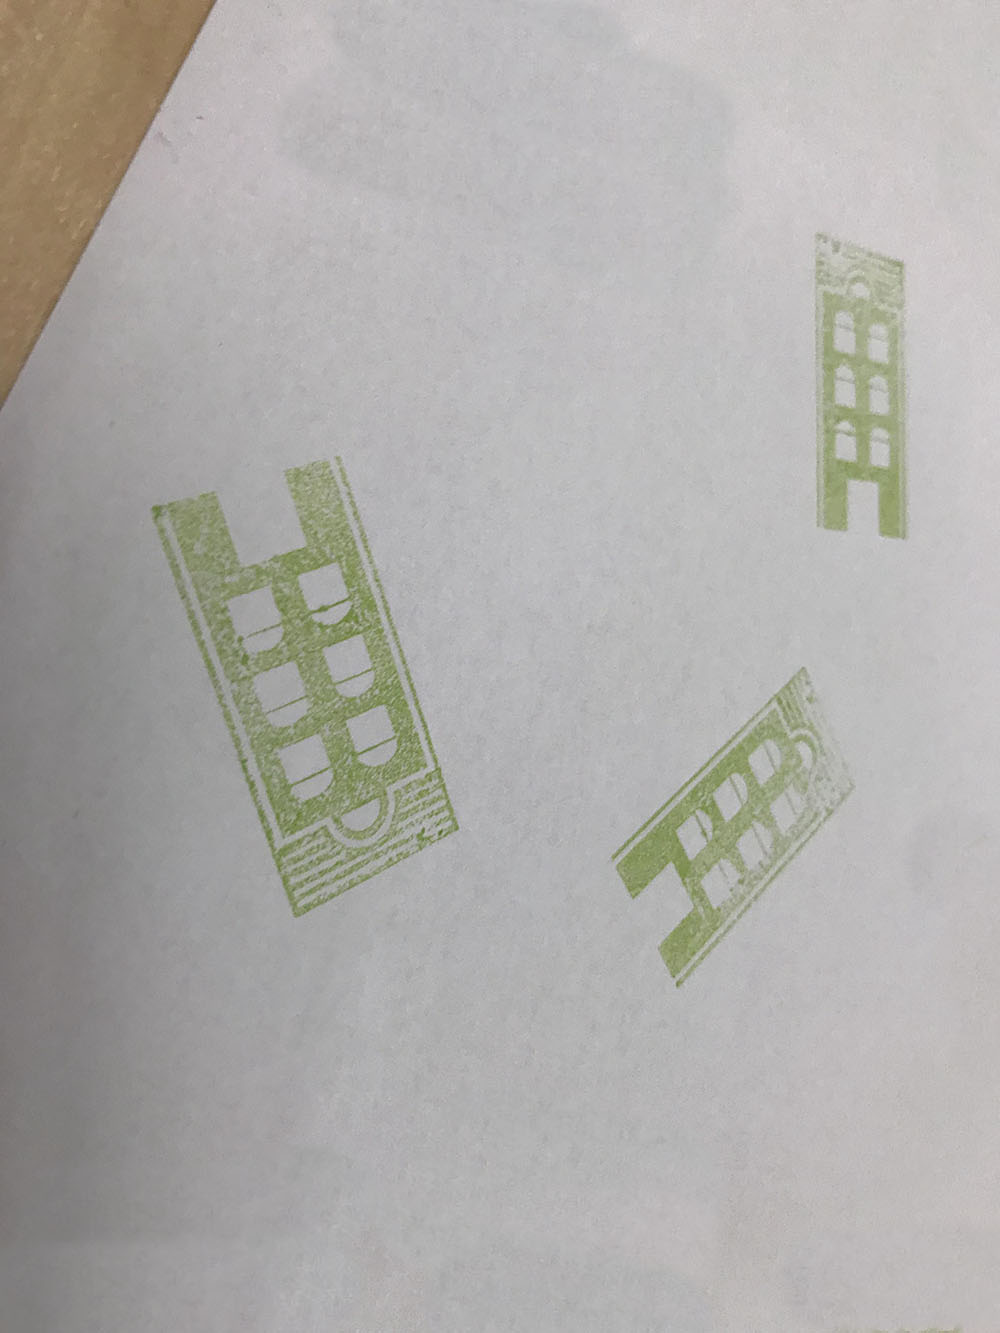build: (134, 410, 497, 960), (593, 615, 874, 1011), (782, 210, 935, 571)
